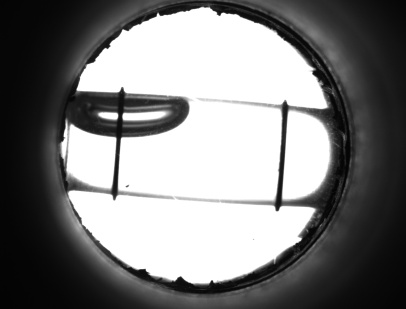line: (271, 121, 291, 191), (107, 143, 123, 184)
